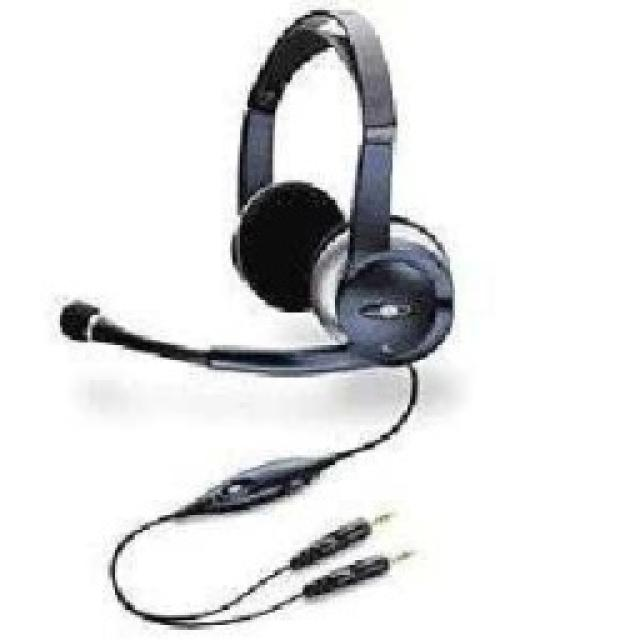kulaklik: (57, 1, 484, 638)
